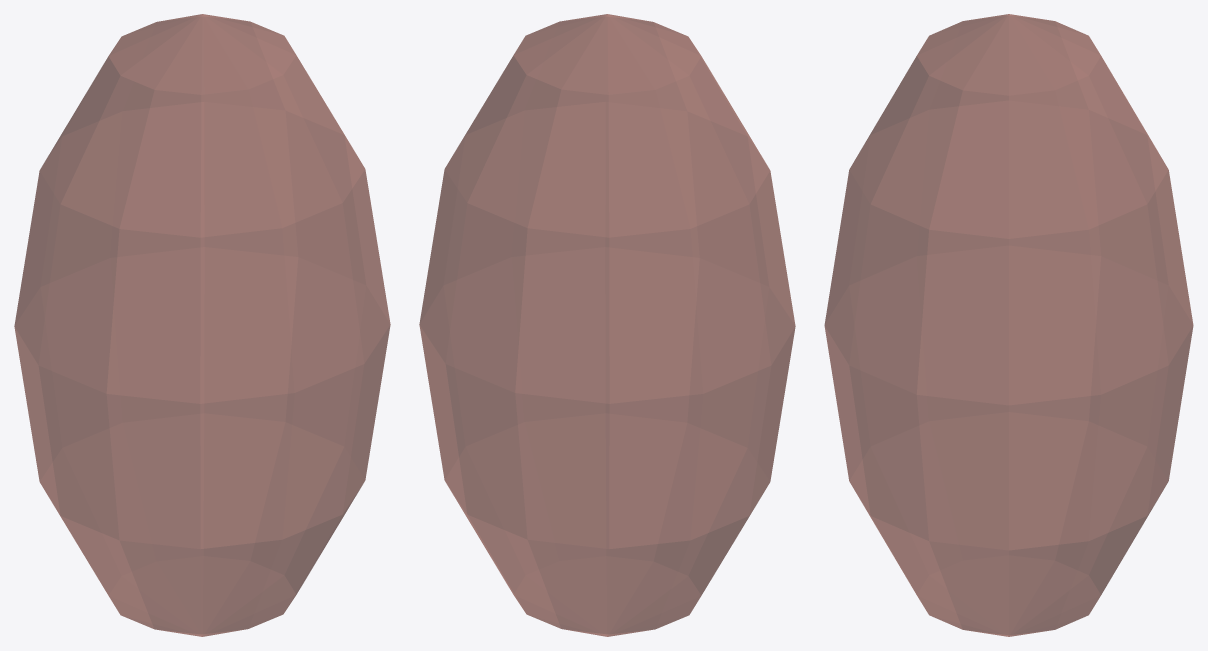
File: EatenTop.fbx
The picture shows the model from 3 angles, left to right: view 1: azimuth 30°, elevation 25°; view 2: azimuth 150°, elevation 25°; view 3: azimuth 270°, elevation 25°; orthographic projection.
Parts seen in each view (by area): view 1: pSphere6; view 2: pSphere6; view 3: pSphere6.
Boxes of the visible parts, left/top/right/bottom form: pSphere6: left=14, top=14, right=390, bottom=636; pSphere6: left=419, top=14, right=795, bottom=636; pSphere6: left=824, top=14, right=1193, bottom=636.
Size of the model in its own units: 6.15 by 11.17 by 5.99.
